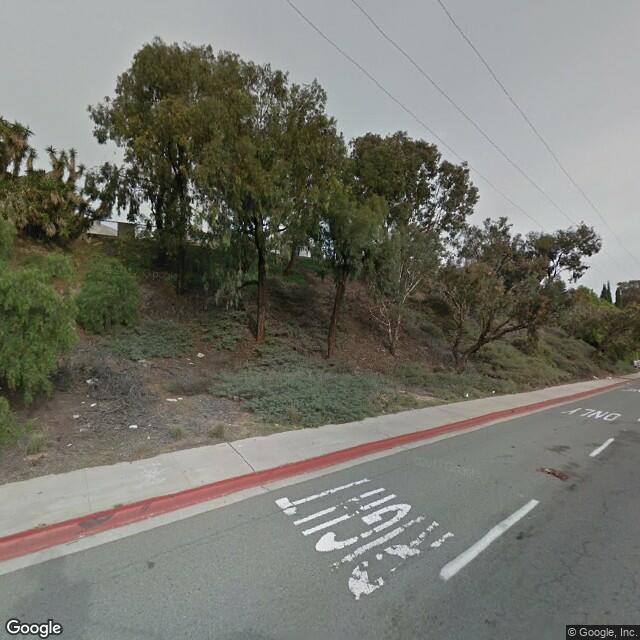litter: (192, 349, 205, 357)
